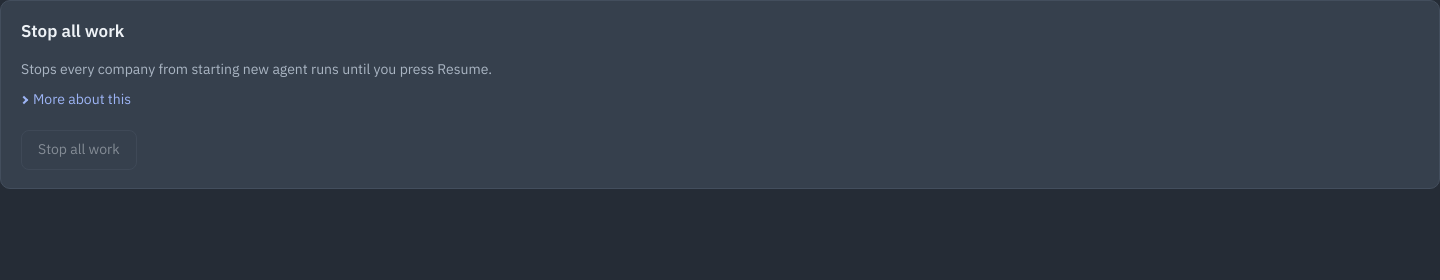
Scenario: Stop all work: the P7 intro › keeps the short lead visible and folds the rest away until asked
Expected: the text "Stops every company from starting new agent runs until you press Resume." is shown, [21,60,492,78]
Expected: the text "Runs already going are not cut off" is not shown
Click the button "More about this" at (76, 100), box [17,84,135,116]
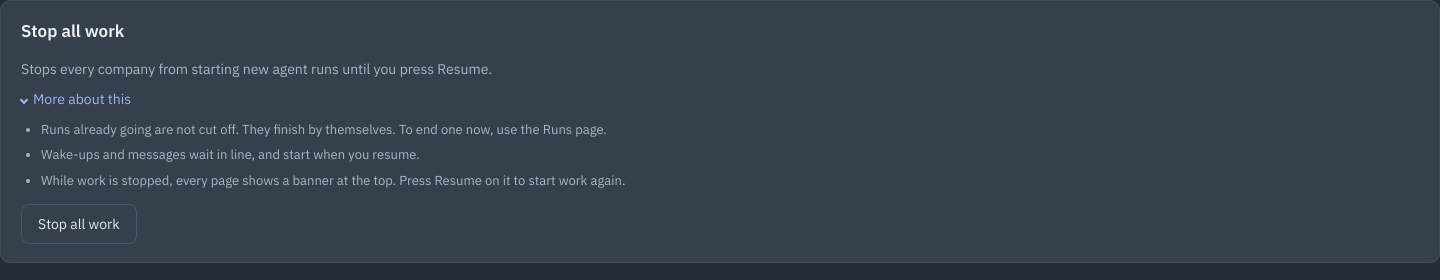
Now the list item "Runs already going are not cut off" is shown, box [41,120,607,138]
Now the list item "Wake-ups and messages wait in line" is shown, box [41,146,420,163]
